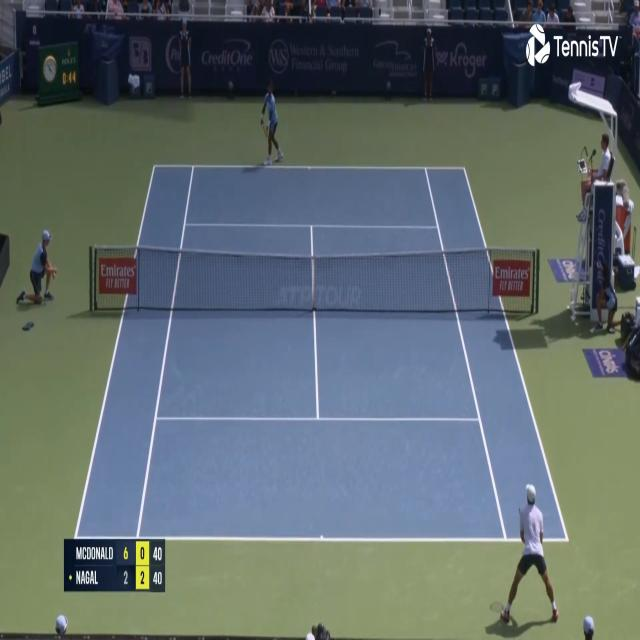tennis-player: (495, 480, 563, 632), (258, 79, 286, 166)
